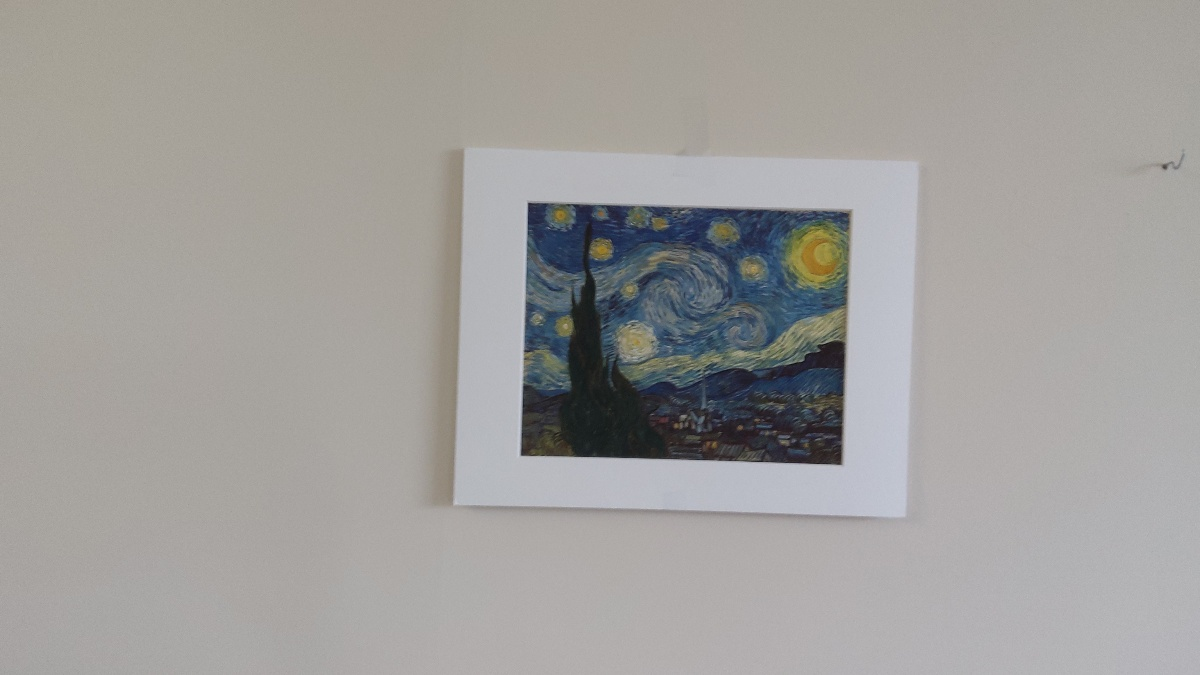painting: (519, 189, 856, 479)
